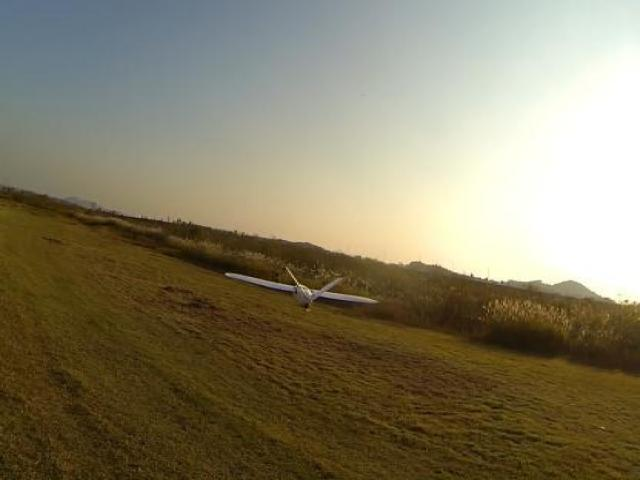uav: (216, 257, 387, 324)
